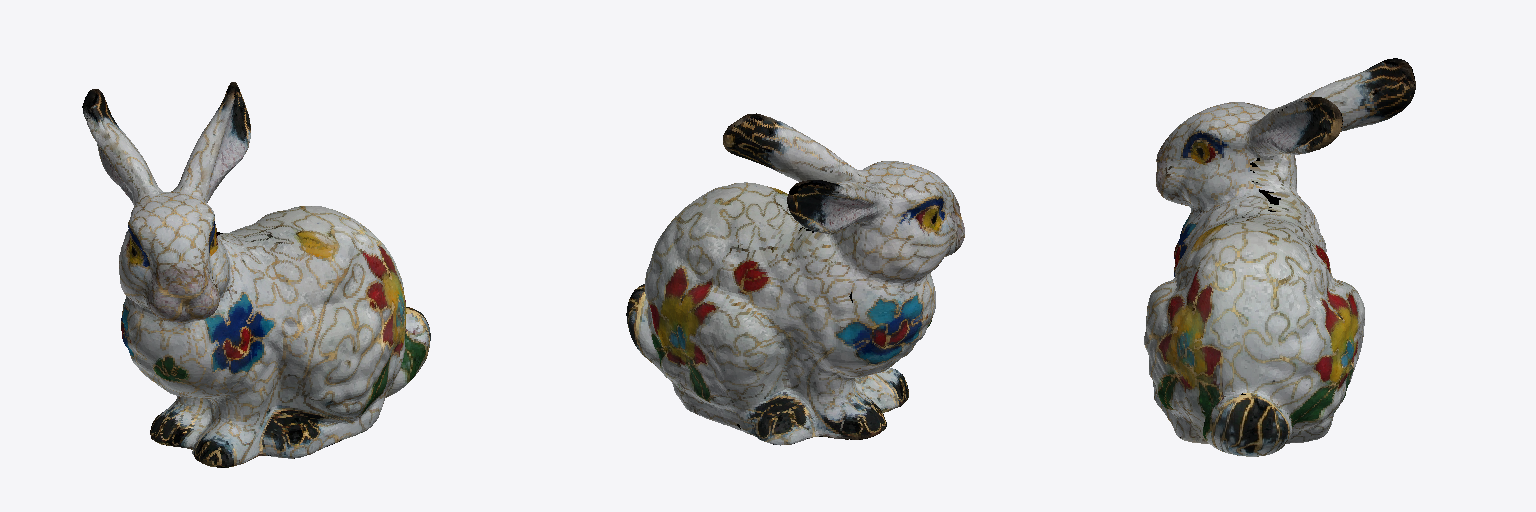
3 renders of one model, left to right at view 1: azimuth 30°, elevation 25°; view 2: azimuth 150°, elevation 25°; view 3: azimuth 270°, elevation 25°, orthographic.
Bounding box in the file's own units: 500 × 495 × 387.
1 materials, 1 textured.